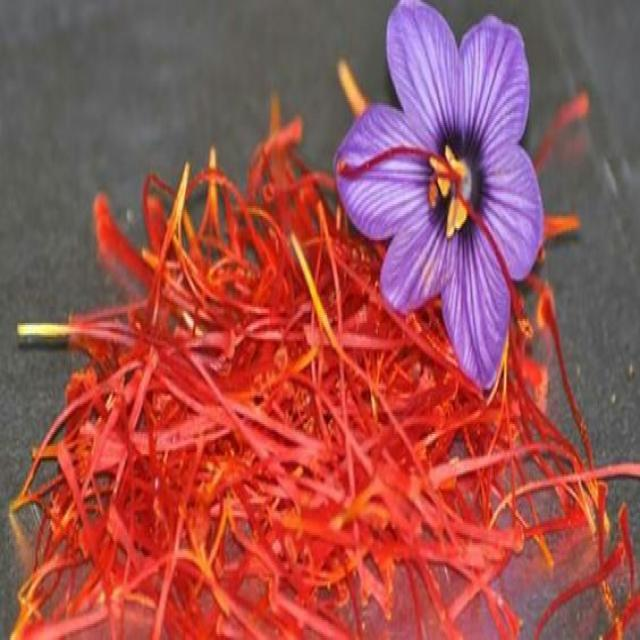Flower: (336, 0, 544, 387)
stigma: (456, 176, 530, 323), (339, 146, 455, 182)
